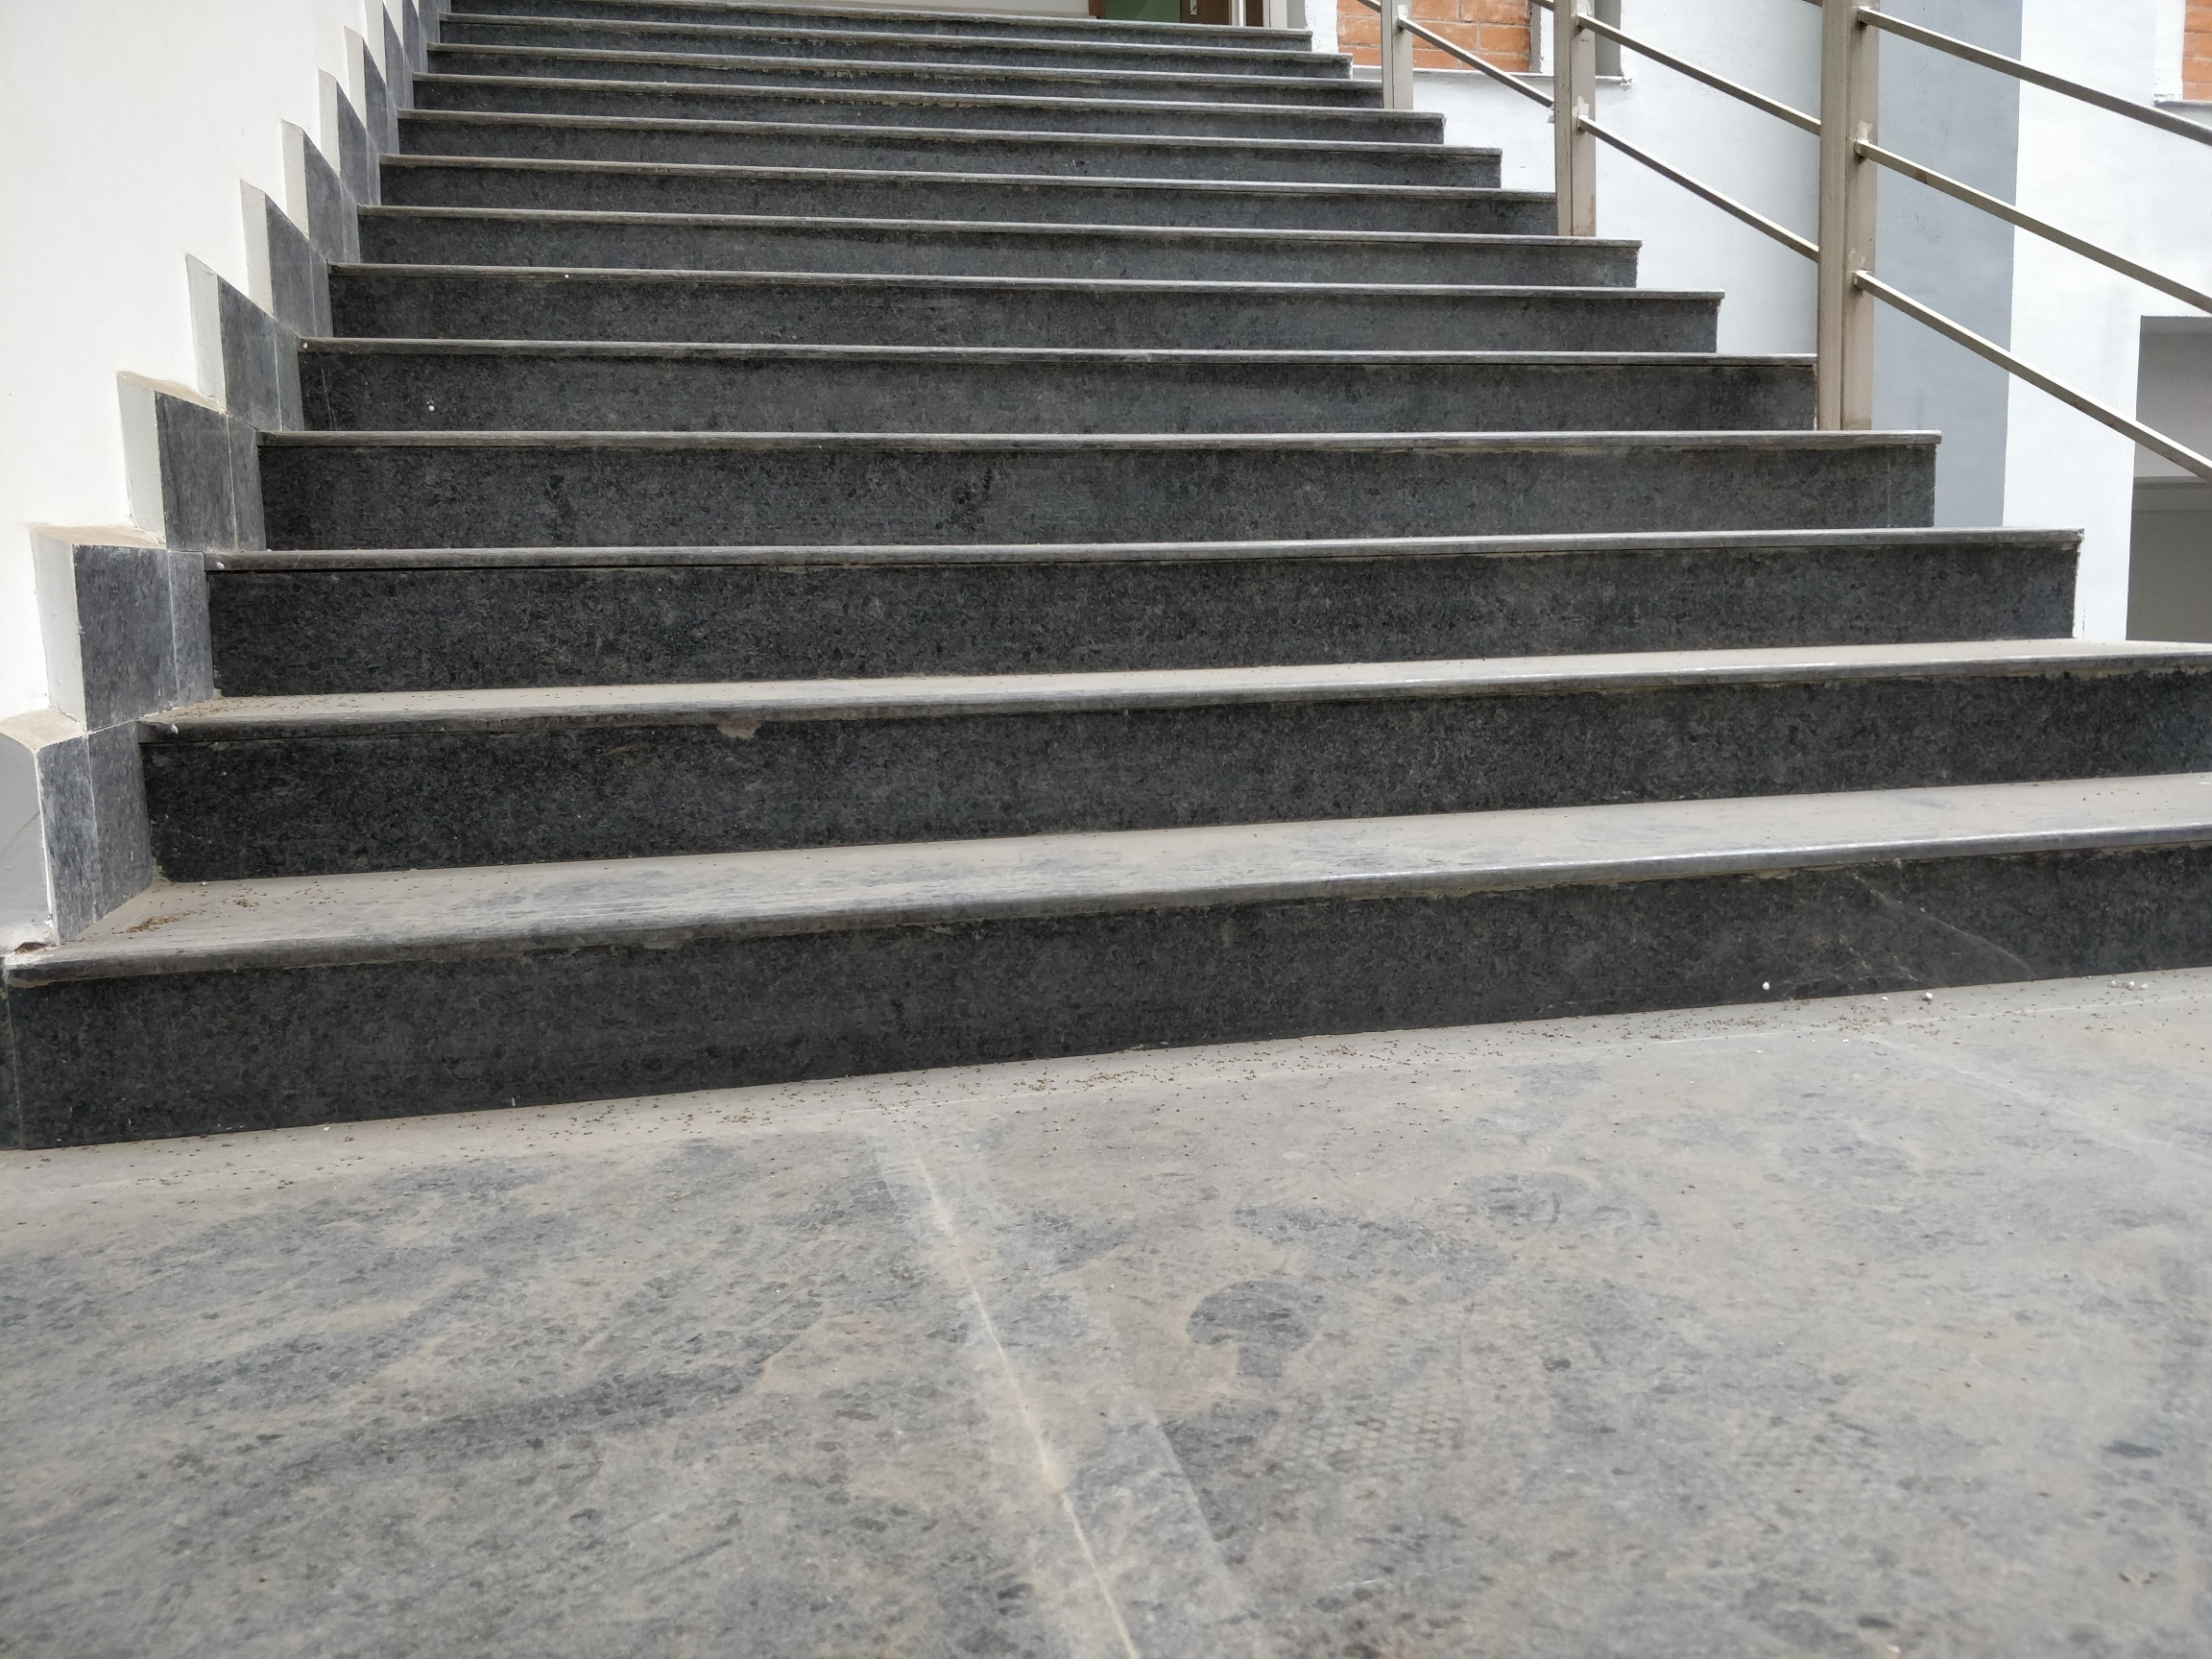stairs_up: (30, 17, 2189, 1161)
